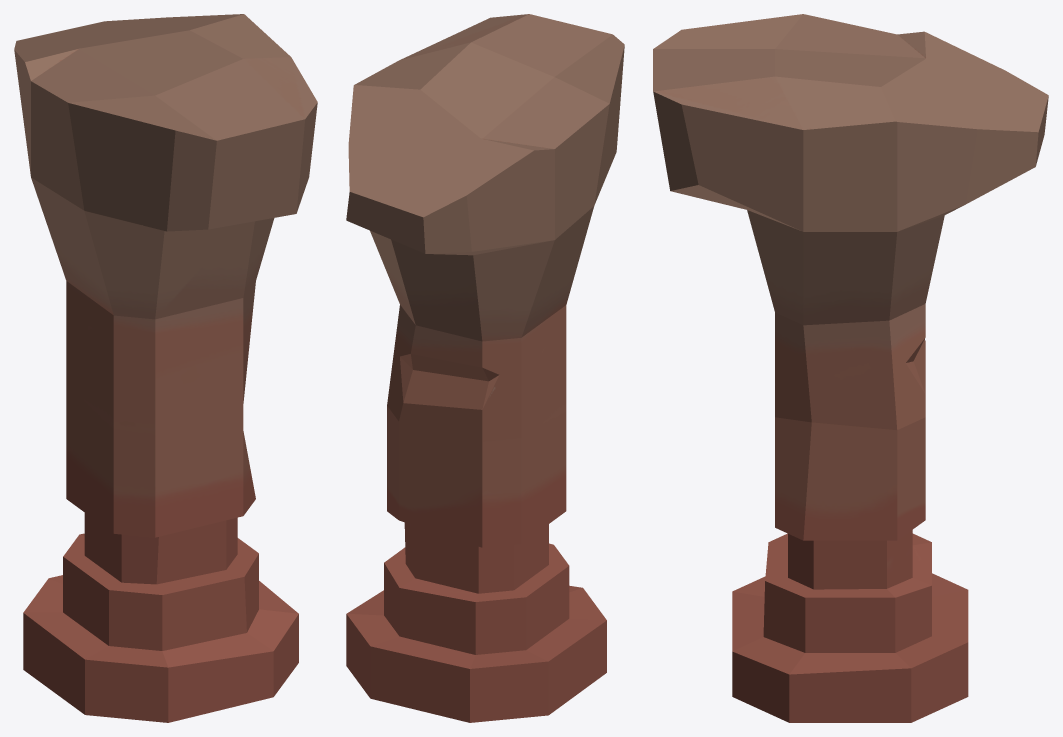
Rendered from Collumn2.fbx.
The picture shows the model from 3 angles, left to right: view 1: azimuth 30°, elevation 25°; view 2: azimuth 150°, elevation 25°; view 3: azimuth 270°, elevation 25°; orthographic projection. The views are drawn at different scales.
Parts seen in each view (by area): view 1: Cube; view 2: Cube; view 3: Cube.
Part boxes in pixels (x1=…): Cube: x1=14, y1=14, x2=317, y2=722; Cube: x1=346, y1=14, x2=624, y2=722; Cube: x1=653, y1=14, x2=1048, y2=722.
Bounding box in the file's own units: 418 × 1116 × 650.
1 material, 1 textured.
